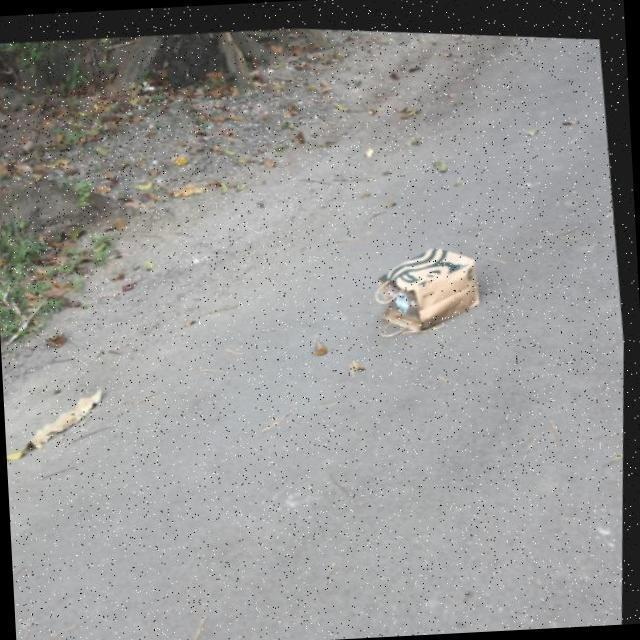Paper_Bag: (368, 228, 489, 338)
